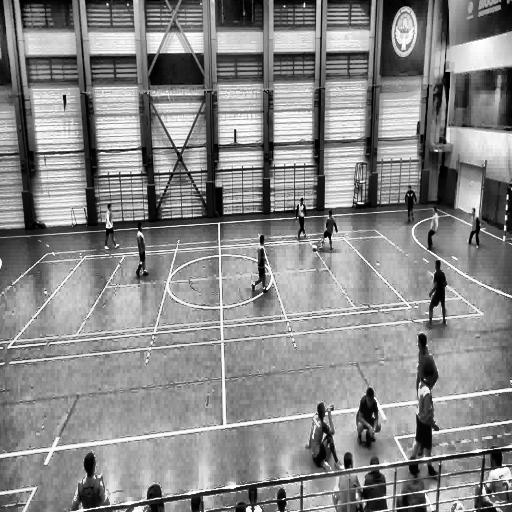ball: (312, 244, 318, 254)
player: (412, 368, 440, 472), (357, 384, 380, 449), (428, 260, 446, 326), (253, 233, 269, 294), (136, 222, 150, 278), (320, 209, 338, 251), (104, 202, 117, 250), (426, 206, 438, 251), (467, 207, 480, 247), (296, 196, 308, 238), (404, 185, 416, 224)
